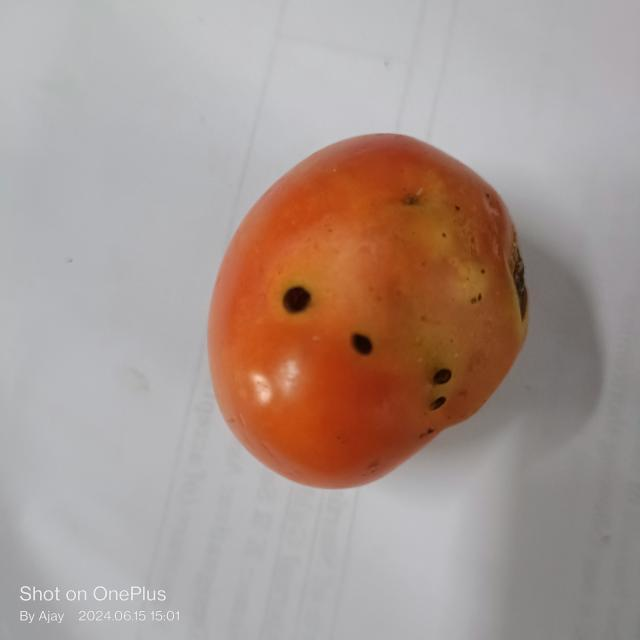fruitworm_bore: (422, 360, 457, 417), (346, 328, 379, 366), (282, 282, 317, 317)
